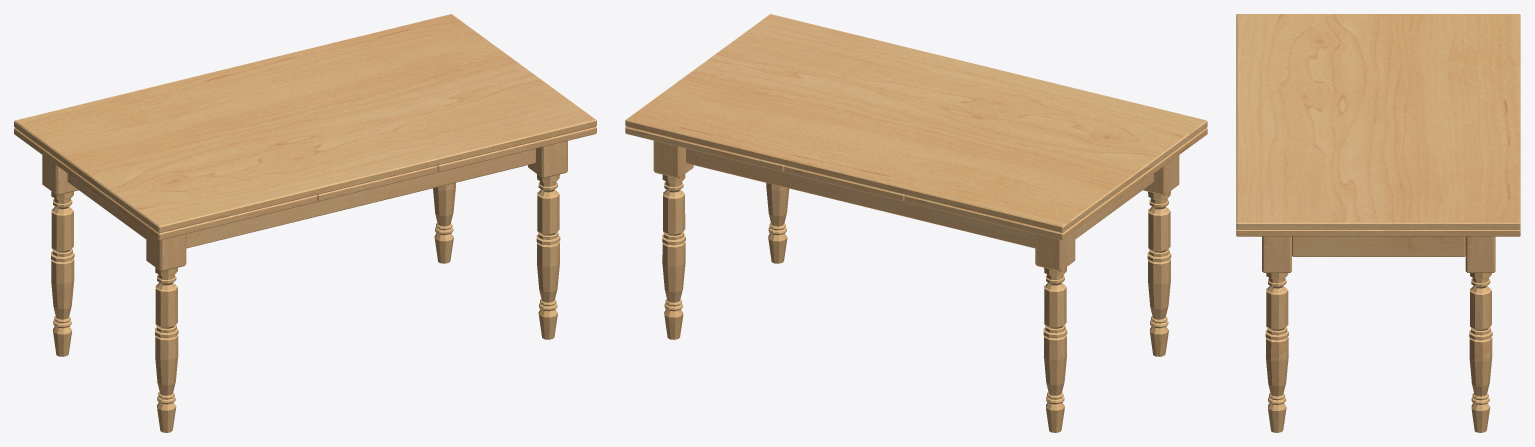
The model's file is canzhuo.fbx.
3 renders of one model, left to right at view 1: azimuth 30°, elevation 25°; view 2: azimuth 150°, elevation 25°; view 3: azimuth 270°, elevation 25°, orthographic. The views are drawn at different scales.
Parts seen in each view (by area): view 1: canzhuo; view 2: canzhuo; view 3: canzhuo.
Part boxes in pixels (x1,y1,x2,y2): canzhuo: (14, 14, 596, 432); canzhuo: (625, 14, 1207, 432); canzhuo: (1236, 14, 1520, 432).
Bounding box in the file's own units: 188 × 92.44 × 108.
